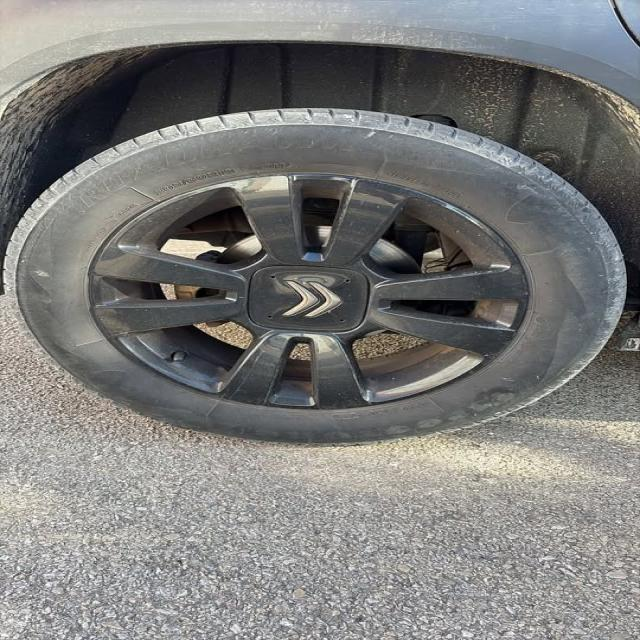jante: (89, 172, 531, 410)
roda: (3, 108, 627, 446)
